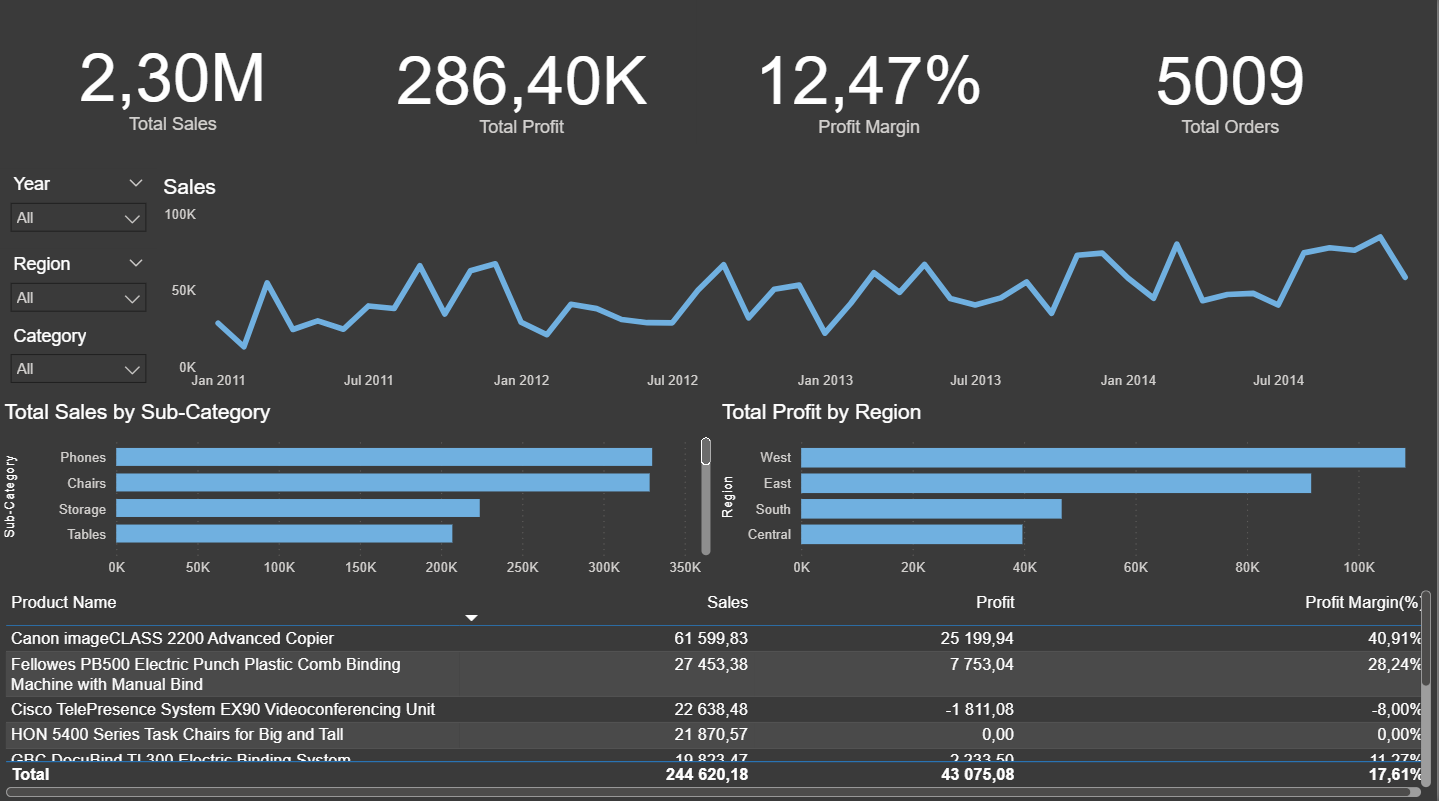

Layout of this report page (visuals, bound fields, positions):
{"tool":"powerbi","page":{"name":"Page 1","canvas":[1280,720],"ordinal":0},"visuals":[{"type":"card","fields":{"Values":["Sheet1.Profit Margin"]},"box":[620.2,0,310.1,160.5],"z":0},{"type":"card","fields":{"Values":["Sheet1.Total Profit"]},"box":[310.1,0,310.1,160.5],"z":1000},{"type":"card","fields":{"Values":["Sheet1.Total Orders"]},"box":[941.3,0,310.1,160.5],"z":2000},{"type":"card","fields":{"Values":["Sheet1.Total Sales"]},"box":[0,0,310.1,155.1],"z":3000},{"type":"lineChart","title":"Sales","fields":{"Category":["Sheet1.Order Date.Variation.Date Hierarchy.Year","Sheet1.Order Date.Variation.Date Hierarchy.Quarter","Sheet1.Order Date.Variation.Date Hierarchy.Month","Sheet1.Order Date.Variation.Date Hierarchy.Day"],"Y":["Sheet1.Total Sales"]},"box":[141.2,160,1139.1,199],"z":4000},{"type":"barChart","fields":{"Category":["Sheet1.Sub-Category","Sheet1.Category"],"Y":["Sheet1.Total Sales"]},"box":[0,360.4,638.8,165.4],"z":5000},{"type":"barChart","fields":{"Y":["Sheet1.Total Profit"],"Category":["Sheet1.Region"]},"box":[638.8,360.4,641.5,165.4],"z":6000},{"type":"tableEx","fields":{"Values":["Sheet1.Product Name","Sum(Sheet1.Sales)","Sum(Sheet1.Profit)","Sheet1.Profit Margin"]},"box":[0,525.8,1280.3,193.7],"z":7000},{"type":"slicer","title":"Year","fields":{"Values":["Sheet1.Order Date.Variation.Date Hierarchy.Year"]},"box":[0,154.7,141.2,71.3],"z":8000},{"type":"slicer","title":"Year","fields":{"Values":["Sheet1.Region"]},"box":[0,225.9,141.2,71.3],"z":9000},{"type":"slicer","title":"Year","fields":{"Values":["Sheet1.Category"]},"box":[0,289.1,141.2,71.3],"z":10000}]}

Visuals, with their boxes in screenshot pixels (x1, y1, x2, y2), scaled from the page's 1280x720 canvas onto the 1439x801 screenshot:
card - Sheet1.Profit Margin: Rect(697, 0, 1046, 179)
card - Sheet1.Total Profit: Rect(349, 0, 697, 179)
card - Sheet1.Total Orders: Rect(1058, 0, 1407, 179)
card - Sheet1.Total Sales: Rect(0, 0, 349, 173)
"Sales" lineChart: Rect(159, 178, 1438, 399)
barChart - Sheet1.Sub-Category x Sheet1.Category: Rect(0, 401, 718, 585)
barChart - Sheet1.Total Profit x Sheet1.Region: Rect(718, 401, 1438, 585)
tableEx - Sheet1.Product Name x Sum(Sheet1.Sales): Rect(0, 585, 1438, 800)
"Year" slicer: Rect(0, 172, 159, 251)
"Year" slicer: Rect(0, 251, 159, 331)
"Year" slicer: Rect(0, 322, 159, 401)
